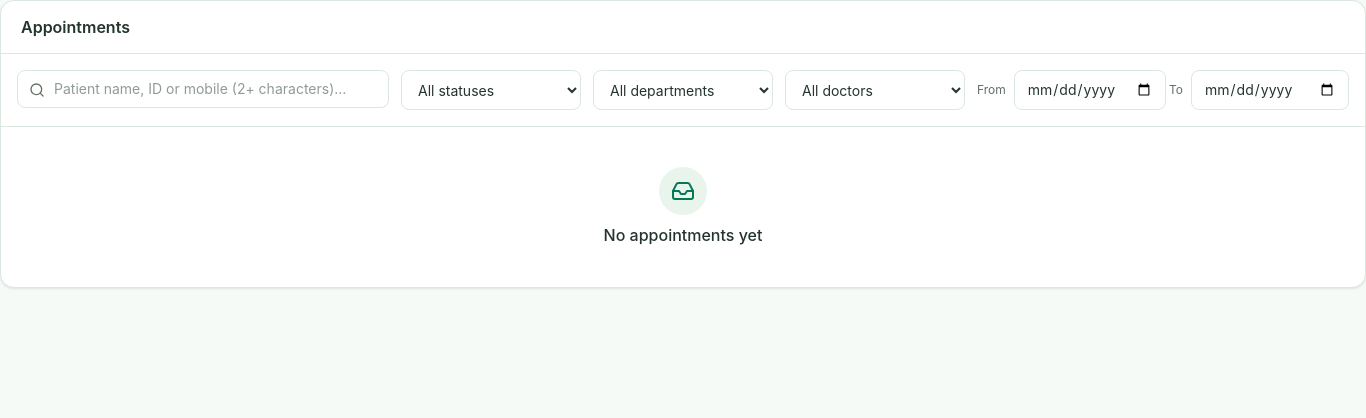
Test: AppointmentList: loading, empty and error states › distinguishes "no appointments" from "nothing matches your filters", and clears filters
Expected: the text "No appointments yet" is shown, [604, 223, 762, 247]
Select "Arrived" in the dropdown named "Filter by status". click: (491, 90)
box: [401, 70, 581, 110]
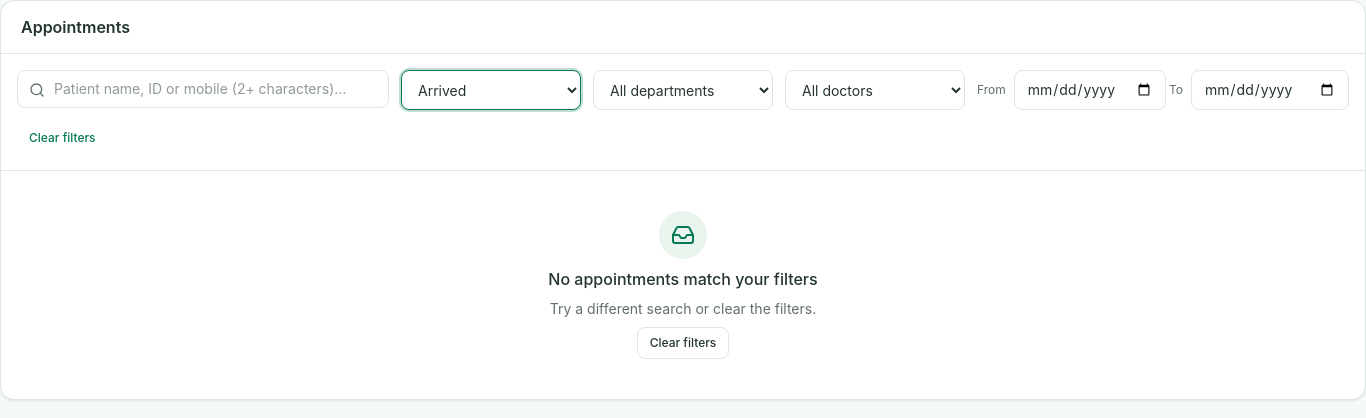
Now the text "No appointments match your filters" is shown, box [548, 267, 818, 291]
Click the 1st button "Clear filters". click: (62, 138)
box: [17, 122, 108, 154]
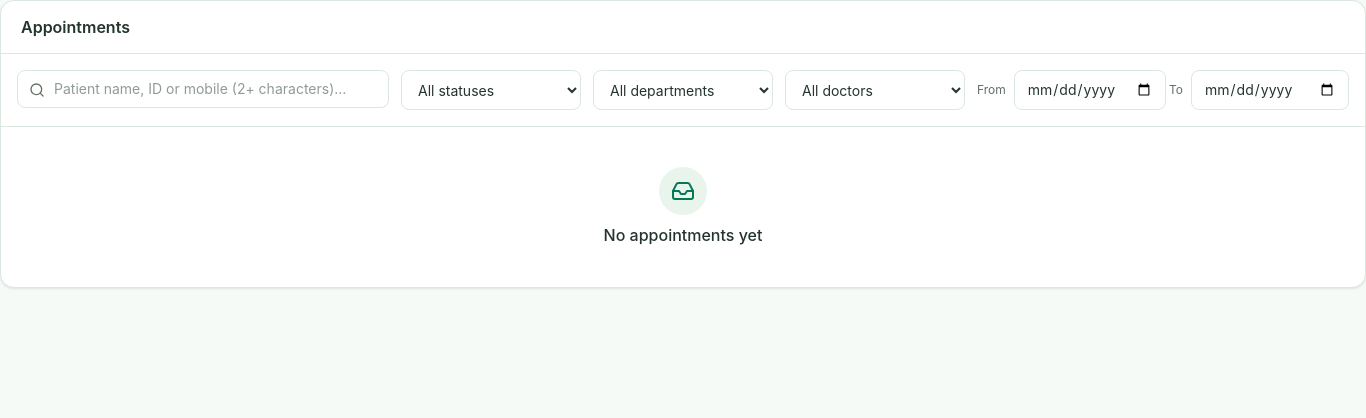
Now the text "No appointments yet" is shown, box [604, 223, 762, 247]
